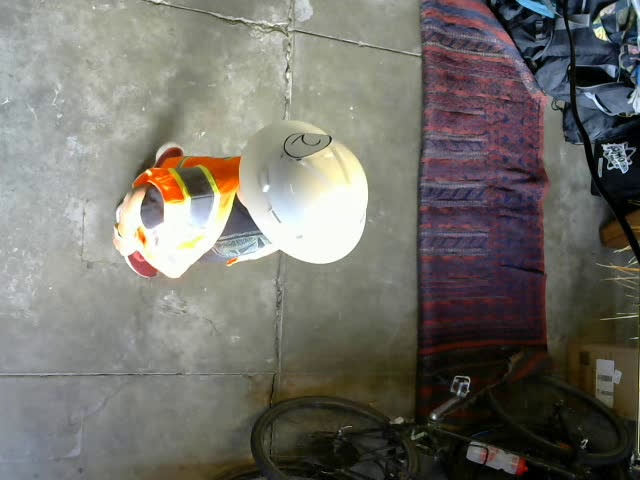two: (282, 131, 333, 157)
